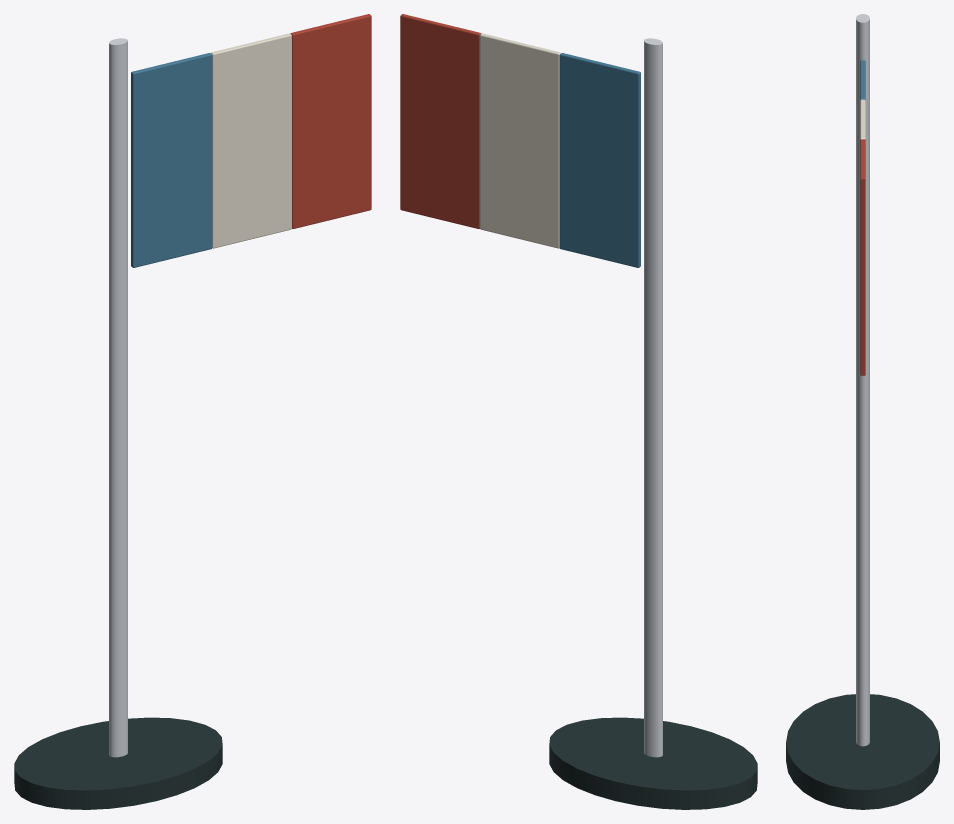
The model's file is wp-drapeau-tricolore-sur-pied.glb.
The picture shows the model from 3 angles, left to right: view 1: azimuth 30°, elevation 25°; view 2: azimuth 150°, elevation 25°; view 3: azimuth 270°, elevation 25°; orthographic projection.
Parts seen in each view (by area): view 1: wp-drapeau-tricolore-sur-pied; view 2: wp-drapeau-tricolore-sur-pied; view 3: wp-drapeau-tricolore-sur-pied.
Part boxes in pixels (x1,y1,x2,y2): wp-drapeau-tricolore-sur-pied: [14, 14, 371, 809]; wp-drapeau-tricolore-sur-pied: [400, 14, 757, 809]; wp-drapeau-tricolore-sur-pied: [786, 14, 939, 809].
Size of the model in its own units: 0.8 by 1.6 by 0.3.
